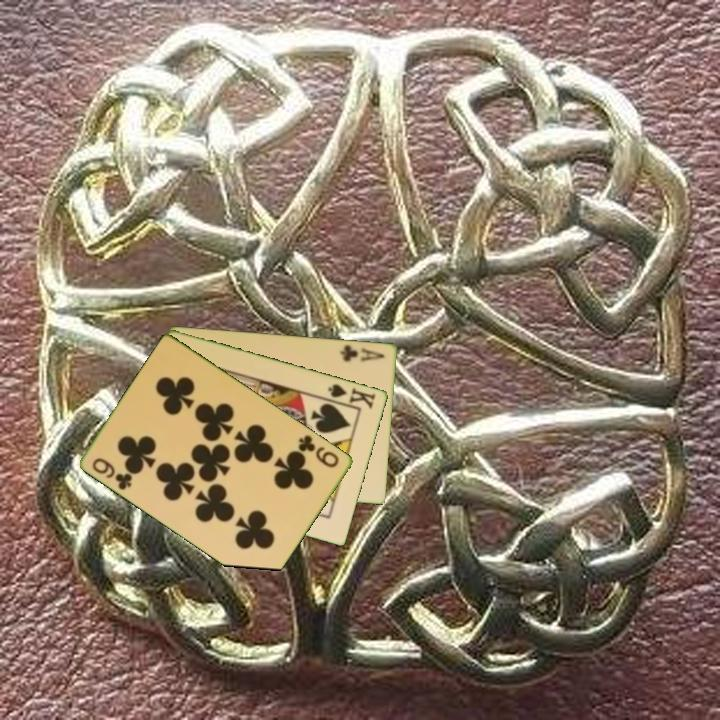9c: (295, 431, 342, 471), (89, 454, 136, 493)
Ac: (337, 341, 388, 364)
Ks: (322, 380, 379, 411)
